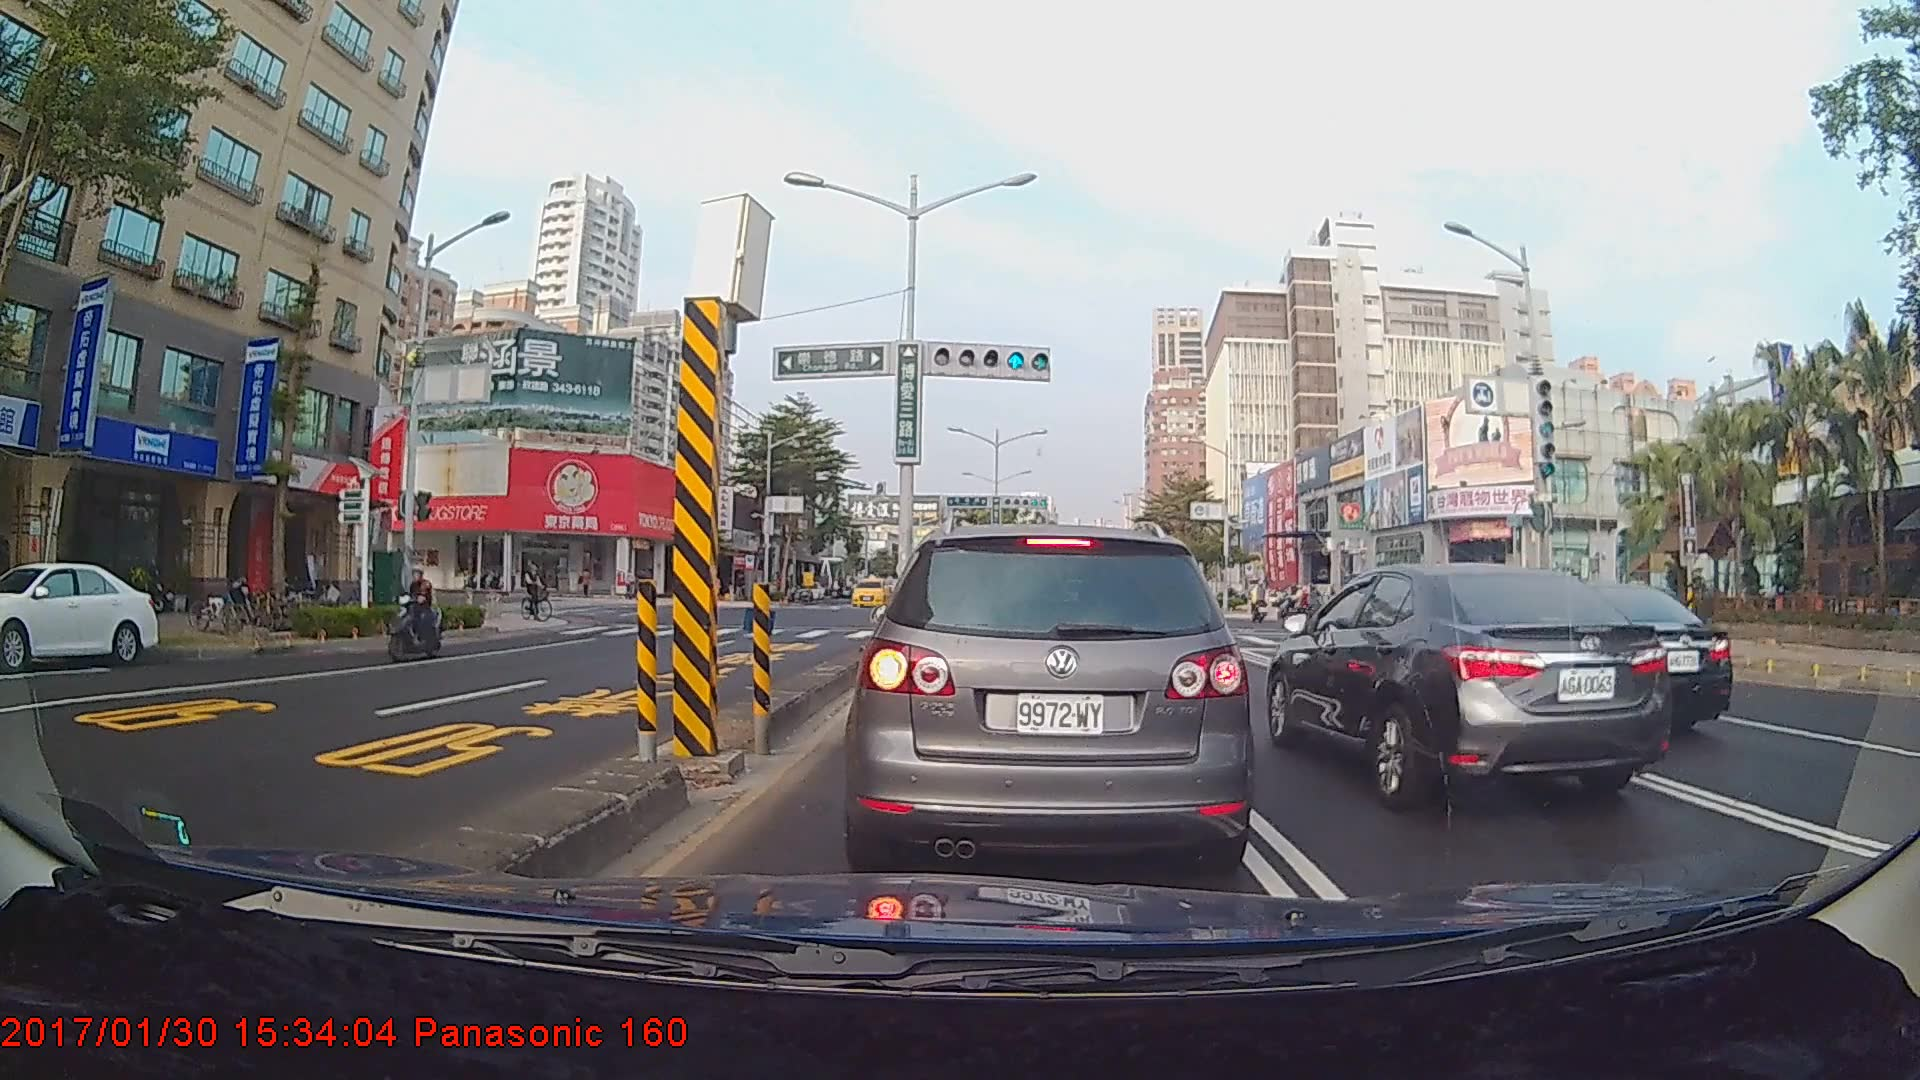rider: (383, 563, 450, 666), (518, 559, 561, 624), (1246, 574, 1273, 631)
vehicle: (854, 520, 1247, 869), (1267, 557, 1676, 808), (1481, 579, 1734, 737), (0, 561, 162, 671), (851, 577, 890, 607)
